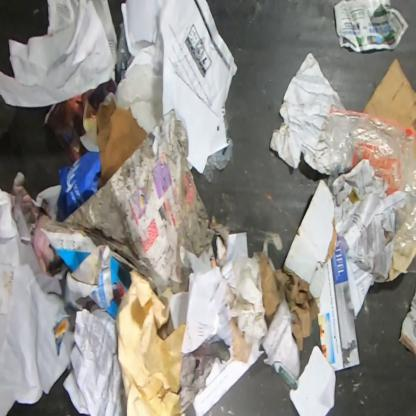cardboard: (258, 178, 338, 392), (363, 57, 415, 131)
soft_plastic: (320, 103, 415, 259), (202, 136, 234, 184), (116, 21, 135, 80)
